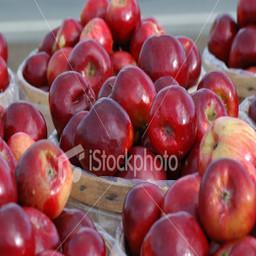apple: (198, 158, 256, 241), (74, 96, 132, 172), (16, 143, 73, 216), (148, 85, 196, 154), (199, 116, 256, 174), (108, 65, 156, 129), (142, 211, 208, 256), (49, 71, 94, 127), (20, 203, 62, 256), (138, 35, 183, 80), (2, 99, 47, 143), (67, 42, 111, 86), (197, 71, 238, 115), (161, 172, 201, 217), (189, 89, 228, 133), (106, 1, 140, 40), (79, 17, 112, 54)
